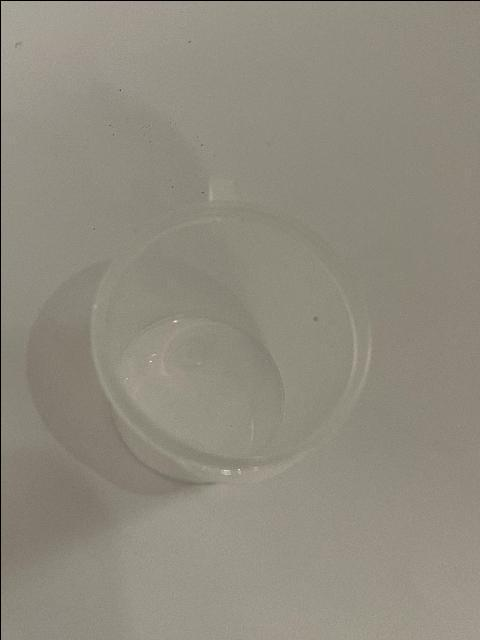plasticcontainer: (86, 166, 374, 489)
